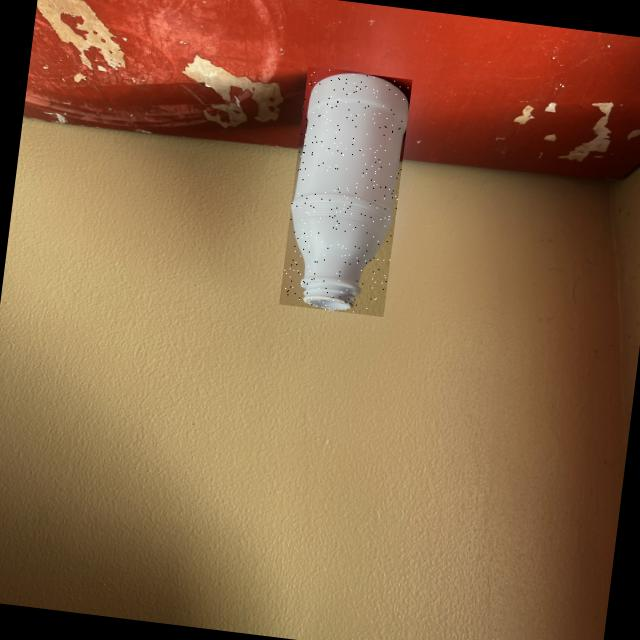HDPE_Bottle: (291, 73, 407, 309)
